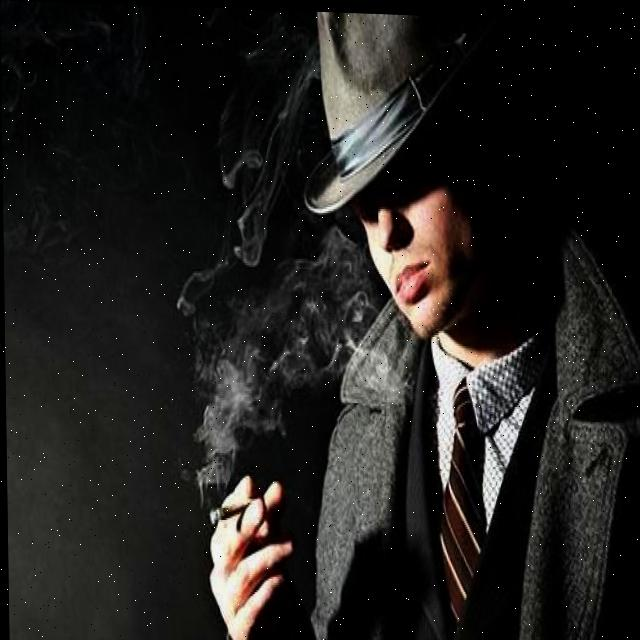cigarette: (206, 496, 255, 523)
